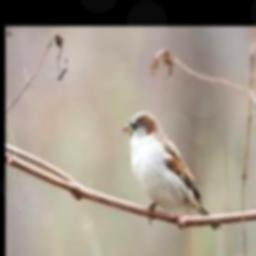Sparrow: (122, 110, 222, 229)
